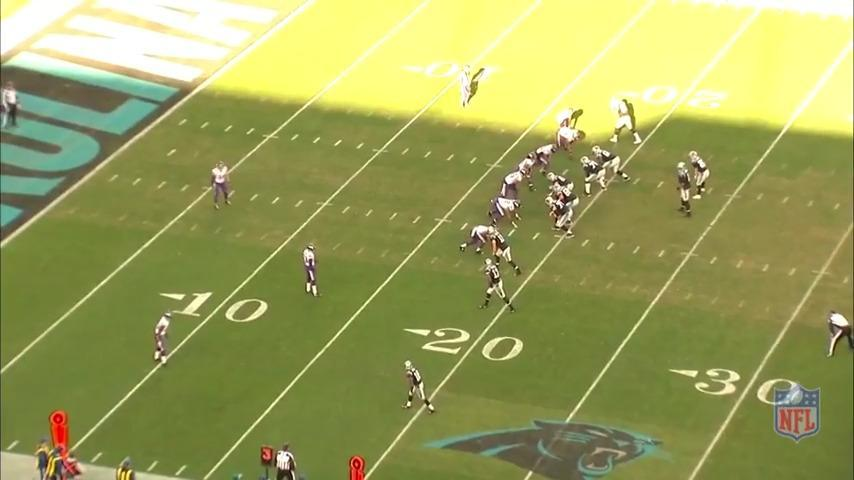defense: (300, 241, 322, 303), (155, 308, 177, 368), (488, 196, 524, 230), (459, 223, 496, 256), (545, 126, 583, 158), (213, 160, 236, 211), (455, 64, 478, 112), (533, 143, 559, 179), (502, 167, 529, 198), (516, 150, 535, 183), (555, 107, 577, 132)
oline: (593, 144, 630, 184), (546, 195, 578, 241), (581, 153, 609, 196), (548, 172, 576, 197), (550, 186, 579, 208)
qb: (674, 158, 694, 219)
ref: (824, 308, 854, 362), (272, 442, 300, 480), (0, 83, 21, 132)
skill: (400, 355, 438, 420), (480, 257, 513, 315), (488, 227, 524, 278), (609, 96, 643, 148), (686, 148, 709, 202)
